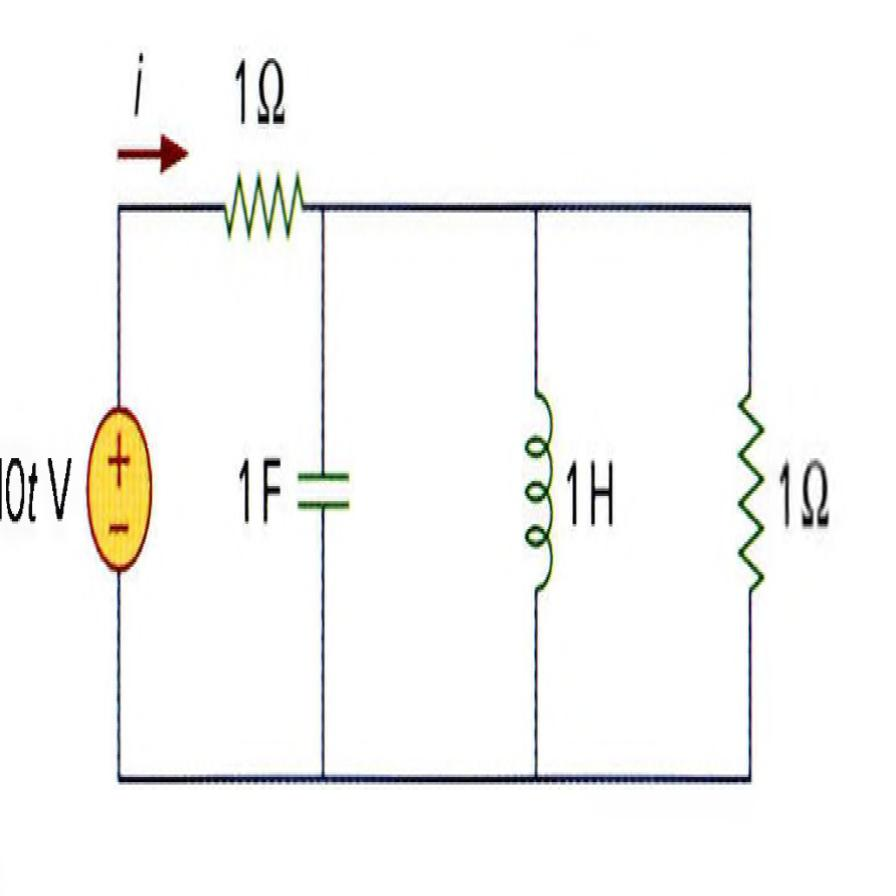C2: (290, 420, 356, 550)
L2: (515, 358, 560, 618)
R1: (213, 156, 312, 261)
R2: (713, 370, 776, 618)
V1: (79, 373, 161, 591)
